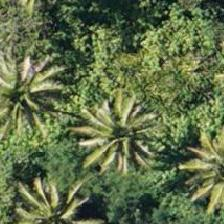coconut_tree: (74, 91, 164, 181), (0, 41, 66, 131), (3, 163, 93, 223), (172, 127, 223, 217)
